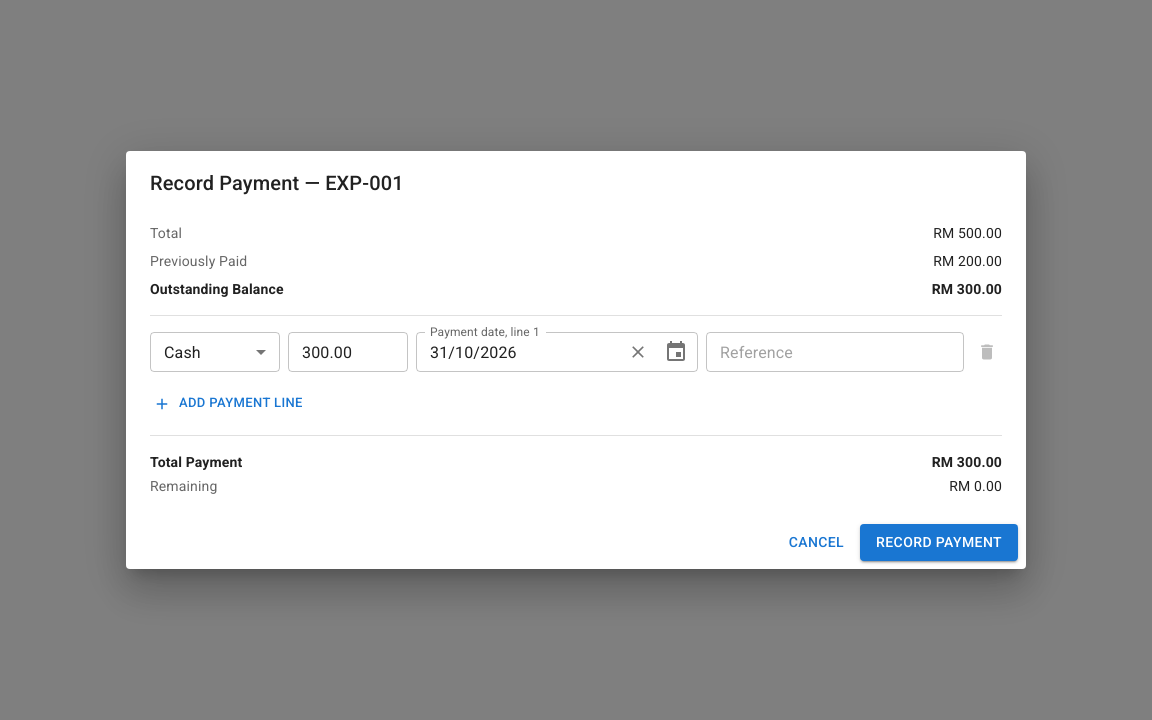
Test: PaymentDialog overpayment › warns but keeps submit enabled
The width and height of the screenshot is (1152, 720).
Replace the text in the number field with placeholder "Amount" with "500" at {"x": 348, "y": 352}, box [288, 332, 408, 372]
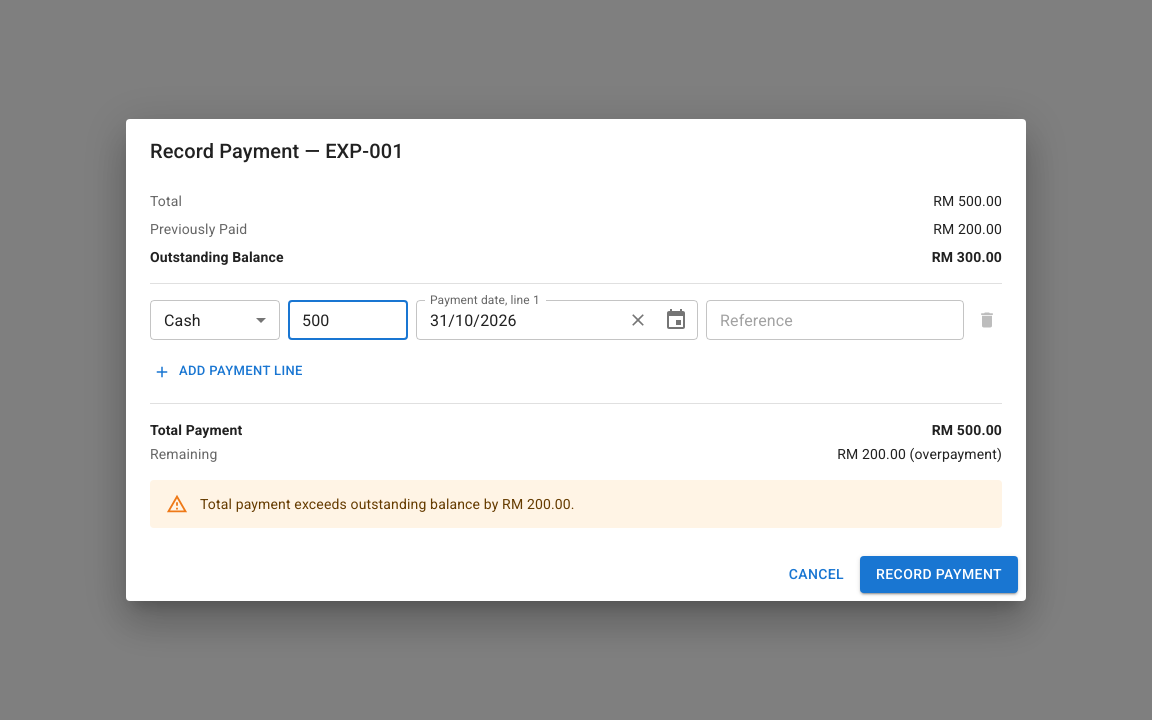
Now the text "Total payment exceeds outstanding balance by RM 200.00." is shown, box [200, 496, 575, 512]
Now the button "Record Payment" is enabled, box [860, 556, 1018, 593]
